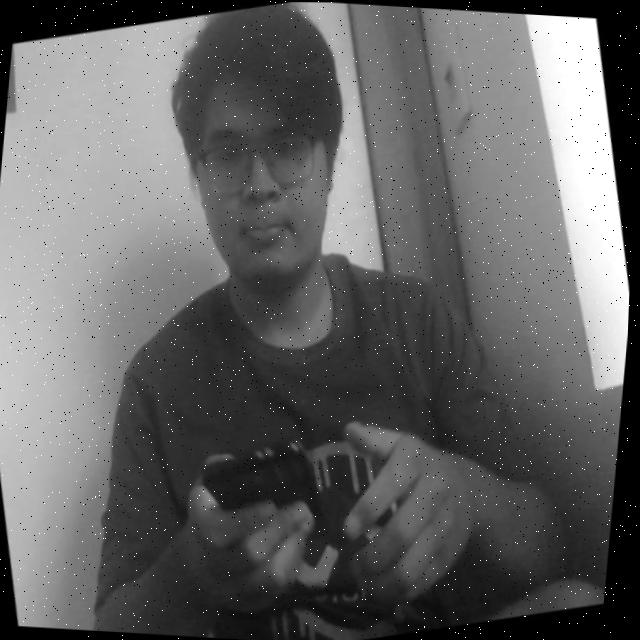phone: (191, 418, 340, 567)
